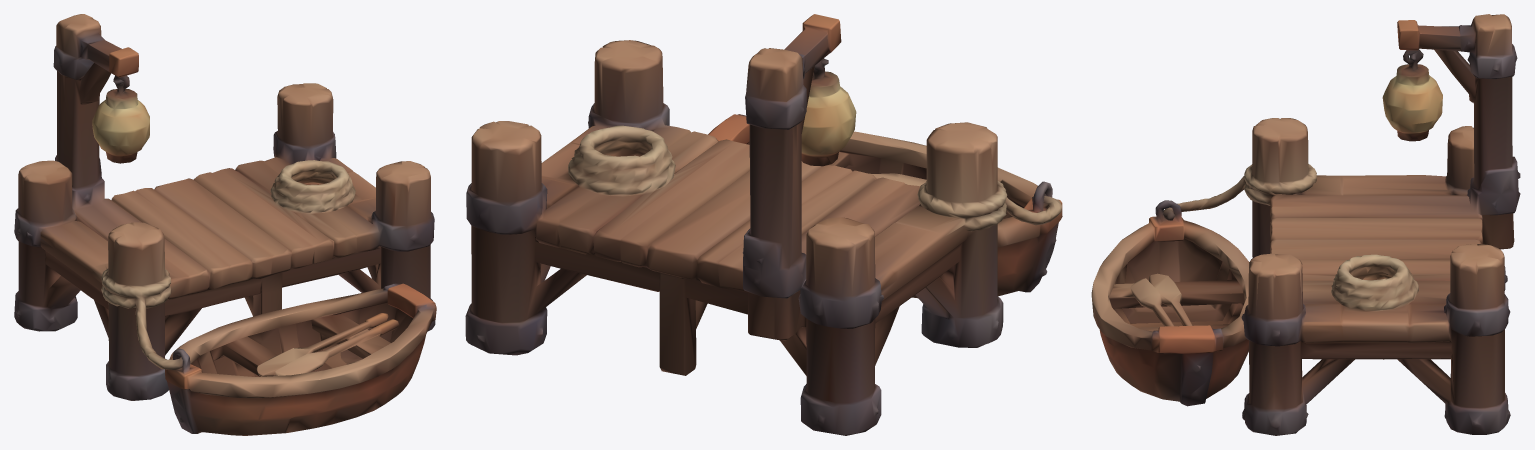
The model's file is dock-DdCI0yLl.glb.
The picture shows the model from 3 angles, left to right: view 1: azimuth 30°, elevation 25°; view 2: azimuth 150°, elevation 25°; view 3: azimuth 270°, elevation 25°; orthographic projection. The views are drawn at different scales.
Parts seen in each view (by area): view 1: tripo_node_3ab58f05-c9eb-41f6-a451-5af043bb4d89; view 2: tripo_node_3ab58f05-c9eb-41f6-a451-5af043bb4d89; view 3: tripo_node_3ab58f05-c9eb-41f6-a451-5af043bb4d89.
Part boxes in pixels (bbox=[...]): tripo_node_3ab58f05-c9eb-41f6-a451-5af043bb4d89: bbox=[14, 14, 436, 435]; tripo_node_3ab58f05-c9eb-41f6-a451-5af043bb4d89: bbox=[465, 14, 1062, 435]; tripo_node_3ab58f05-c9eb-41f6-a451-5af043bb4d89: bbox=[1091, 14, 1520, 435].
Size of the model in its own units: 0.8851 by 0.7464 by 0.9787.
